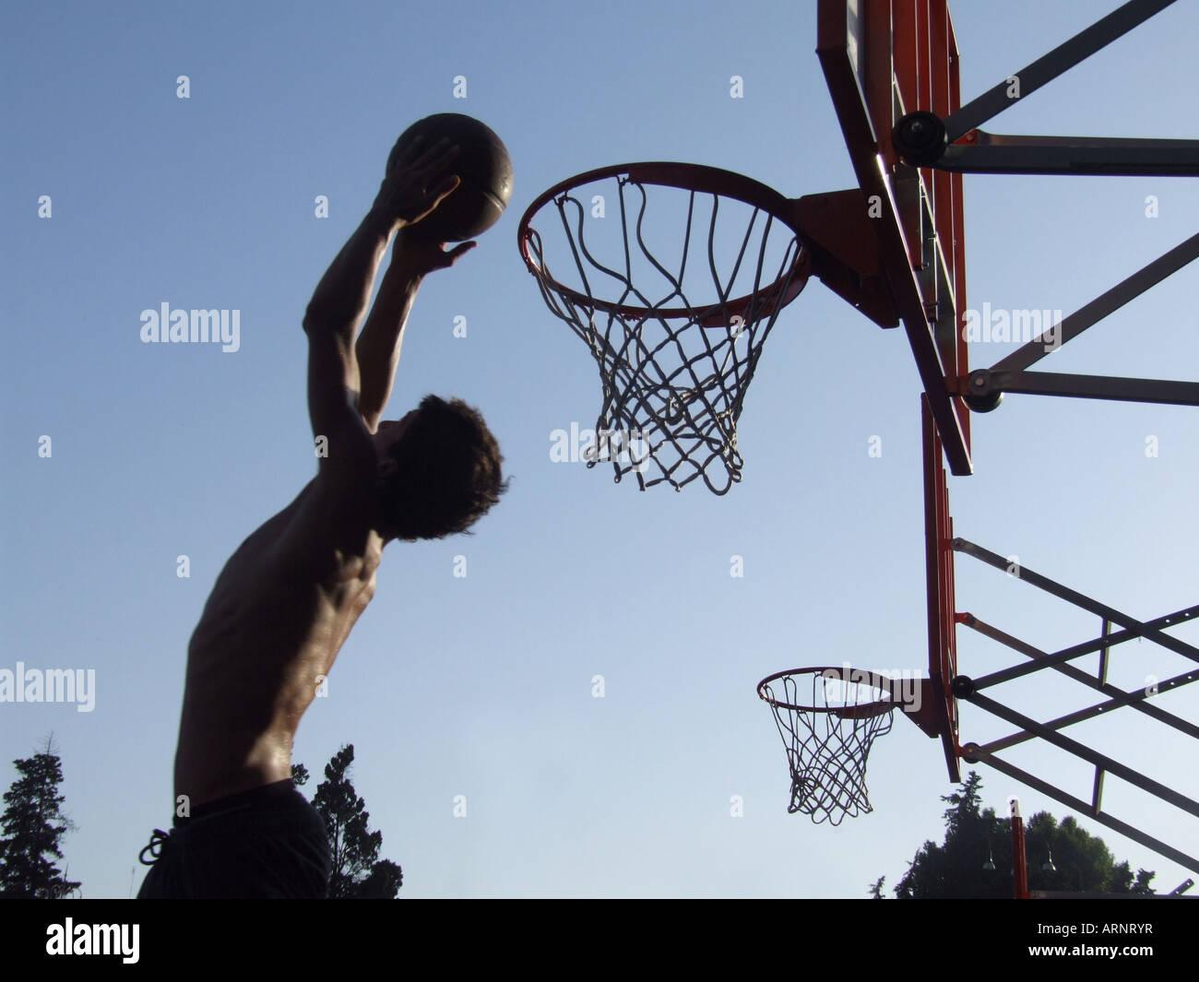basketball: (386, 116, 514, 241)
